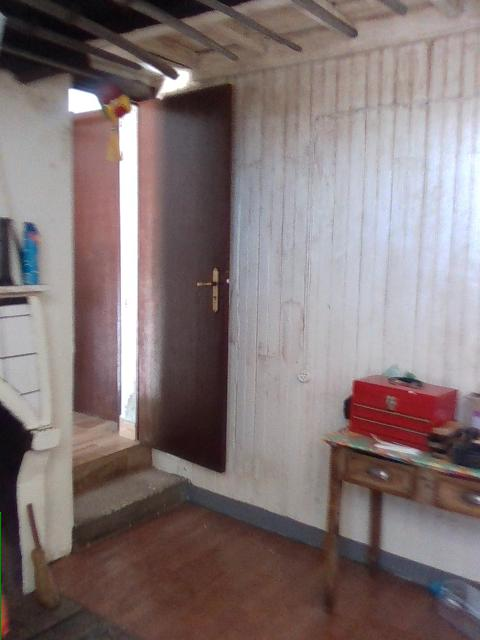door: (135, 83, 231, 469)
